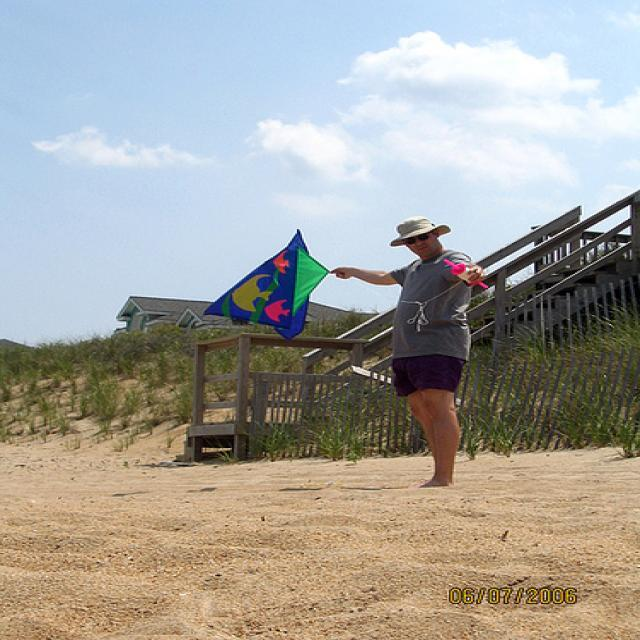non-dog: (328, 216, 480, 490)
